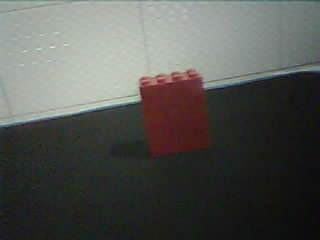lego: (137, 66, 211, 159)
